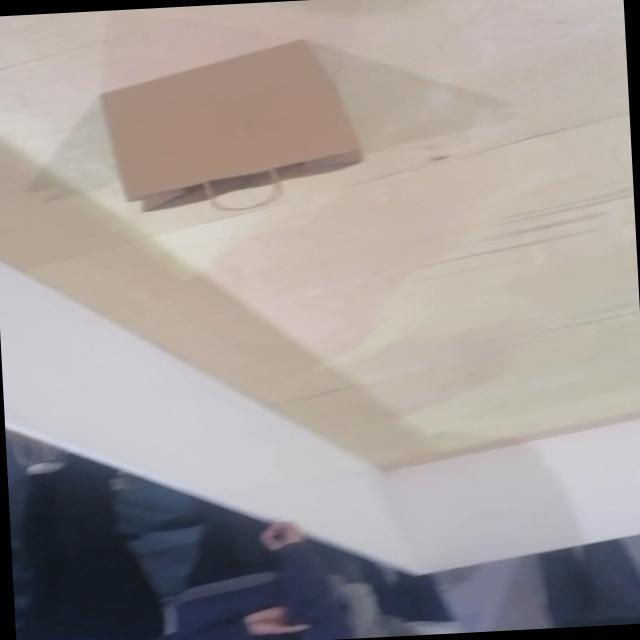Paper_Bag: (96, 36, 366, 218)
